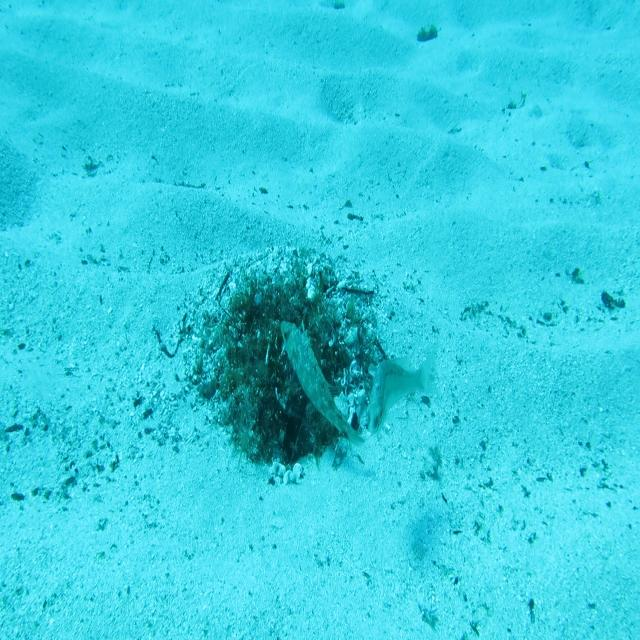FAN: (276, 314, 367, 453)
core_nest: (257, 300, 300, 328)
female: (364, 341, 440, 439)
nest: (170, 244, 392, 496)
vegetation: (415, 23, 440, 44)
